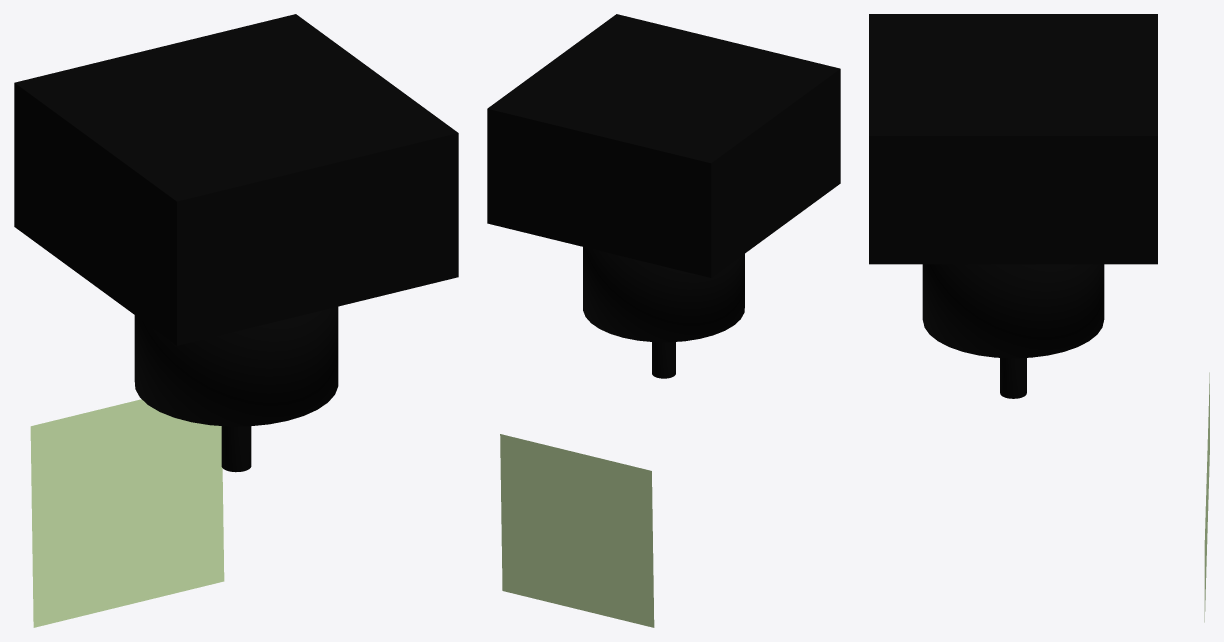
The model's file is glass-study.glb.
The picture shows the model from 3 angles, left to right: view 1: azimuth 30°, elevation 25°; view 2: azimuth 150°, elevation 25°; view 3: azimuth 270°, elevation 25°; orthographic projection. The views are drawn at different scales.
Parts seen in each view (by area): view 1: Cube.001, Plane, Cylinder, Cylinder.001; view 2: Cube.001, Plane, Cylinder, Cylinder.001; view 3: Cube.001, Cylinder, Cylinder.001, Plane.
Boxes of the visible parts, box(x1,y1,x2,y2) form: Cube.001: box(14, 14, 458, 345); Plane: box(30, 399, 224, 627); Cylinder: box(134, 306, 338, 426); Cylinder.001: box(221, 426, 251, 472); Cube.001: box(487, 14, 840, 277); Plane: box(500, 434, 654, 627); Cylinder: box(583, 247, 744, 342); Cylinder.001: box(652, 342, 675, 378); Cube.001: box(869, 14, 1157, 264); Cylinder: box(922, 264, 1104, 358); Cylinder.001: box(1000, 358, 1026, 398); Plane: box(1204, 372, 1209, 622).
Size of what is drawn, in the model's own units: 1.45 by 2.84 by 1.72.
